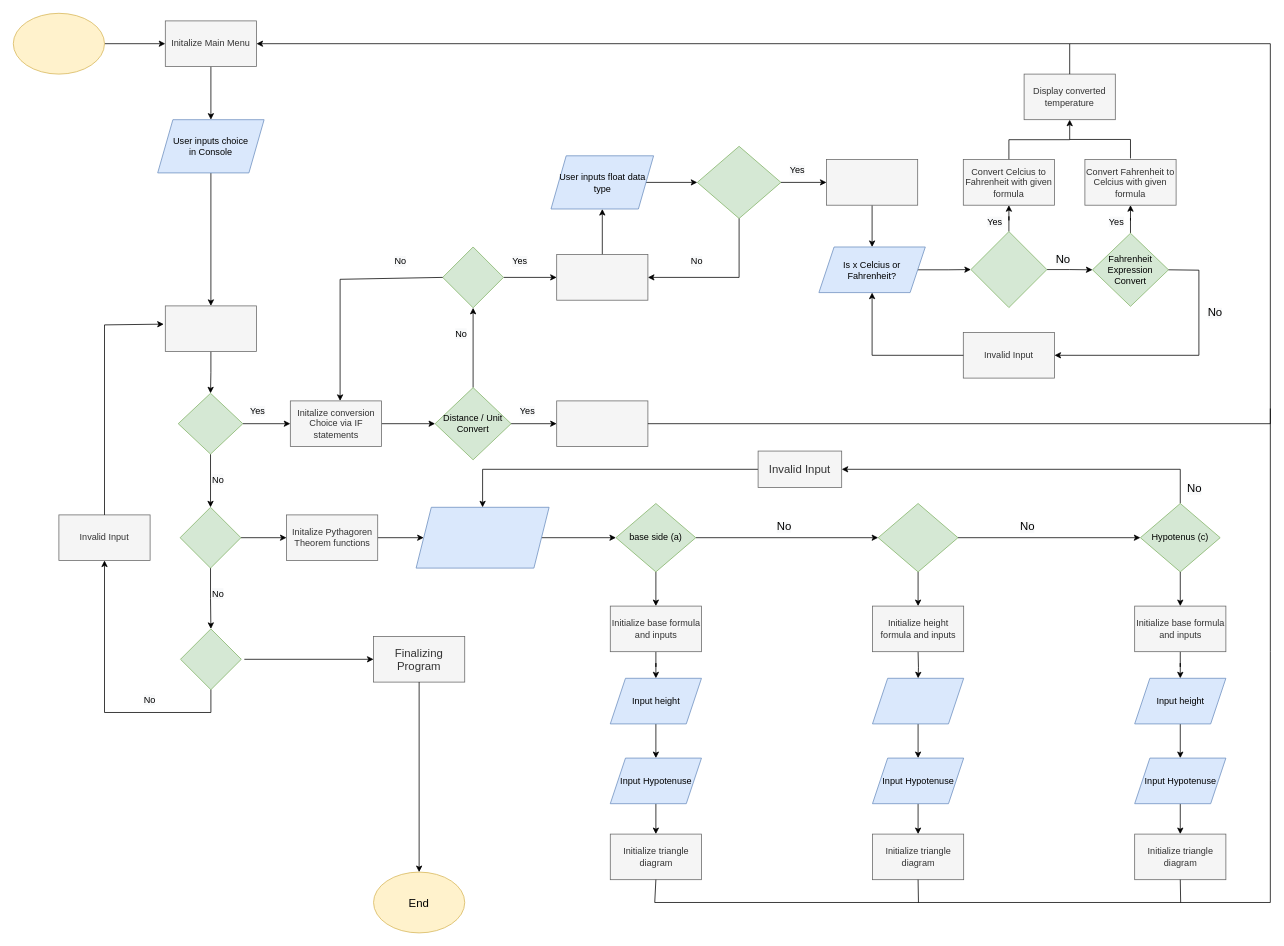
Some shapes in this 1284 by 946 pixel diagram are drawn without their labels. Each missing label, with the box of its shape:
Celcius Expression Convert: (970, 231, 1047, 308)
height side (b): (877, 503, 958, 572)
Initalize IF statements: (165, 305, 256, 352)
Initialize Function for Converting temperature: (556, 254, 648, 300)
input = x: (826, 159, 918, 205)
Input base: (872, 678, 964, 724)
Is user input an integer?: (697, 146, 781, 218)
Program Not Finished.: (556, 400, 648, 446)
Start: (13, 13, 104, 74)
Temperature Converter: (442, 246, 504, 308)
Test Expression Convert: (177, 393, 243, 454)
Test Expression End: (180, 628, 241, 690)
Test Expression Pytha: (179, 507, 241, 568)
User types what side of the triangle they want to find: (415, 507, 549, 568)
